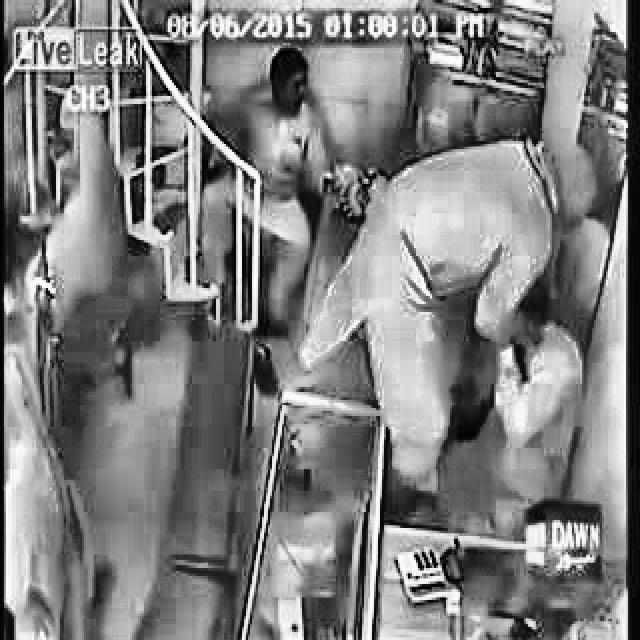robbery: (289, 135, 602, 493), (4, 218, 76, 640)
